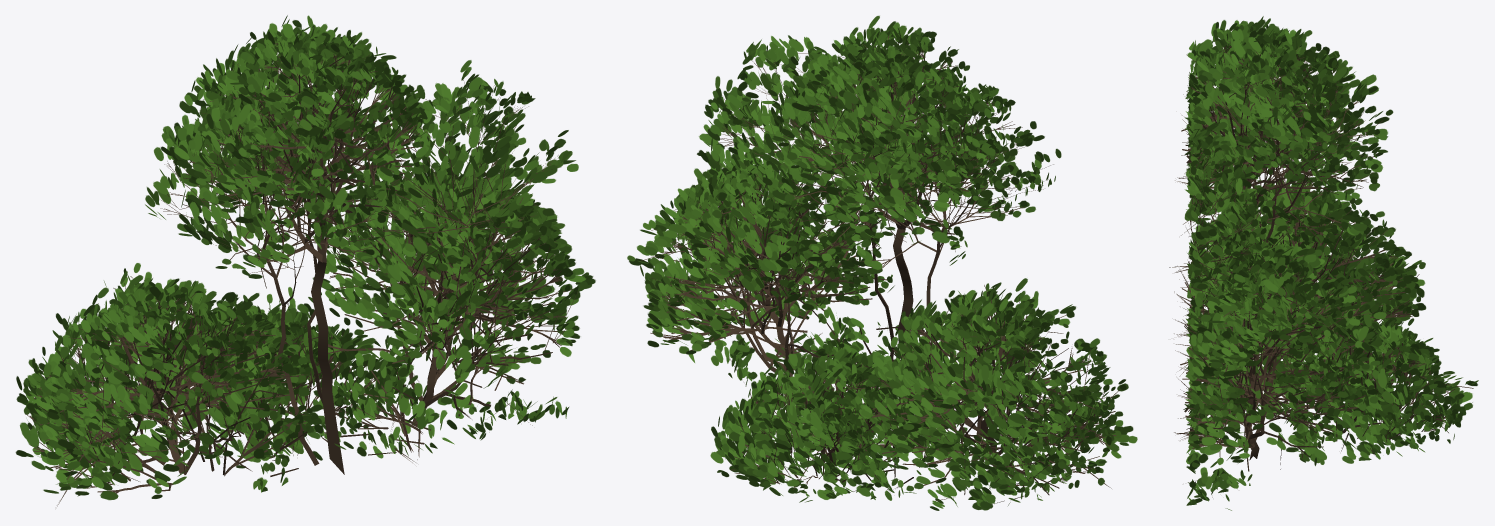
The picture shows the model from 3 angles, left to right: view 1: azimuth 30°, elevation 25°; view 2: azimuth 150°, elevation 25°; view 3: azimuth 270°, elevation 25°; orthographic projection. The views are drawn at different scales.
Parts seen in each view (by area): view 1: oak 01.001_trunk_Mat.001_0.385; view 2: oak 01.001_trunk_Mat.001_0.385; view 3: oak 01.001_trunk_Mat.001_0.385.
Part boxes in pixels (x1,y1,x2,y2): oak 01.001_trunk_Mat.001_0.385: (15,15,595,506); oak 01.001_trunk_Mat.001_0.385: (627,15,1137,510); oak 01.001_trunk_Mat.001_0.385: (1169,16,1478,510).
Bounding box in the file's own units: 6.07 × 4.89 × 3.45.
2 materials, 1 textured.
